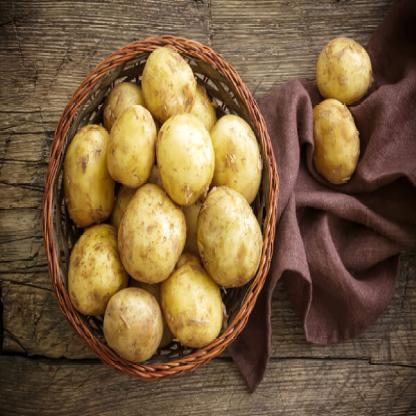potato: (134, 36, 213, 141), (193, 170, 263, 288), (116, 179, 191, 284), (62, 108, 120, 226), (308, 83, 374, 186), (149, 107, 214, 211), (149, 252, 226, 336), (94, 89, 156, 192), (96, 284, 161, 368), (68, 222, 126, 316), (310, 41, 382, 113)
